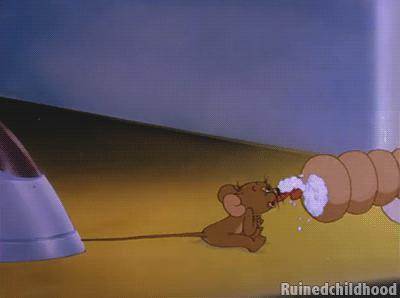jerry: (77, 176, 304, 253)
